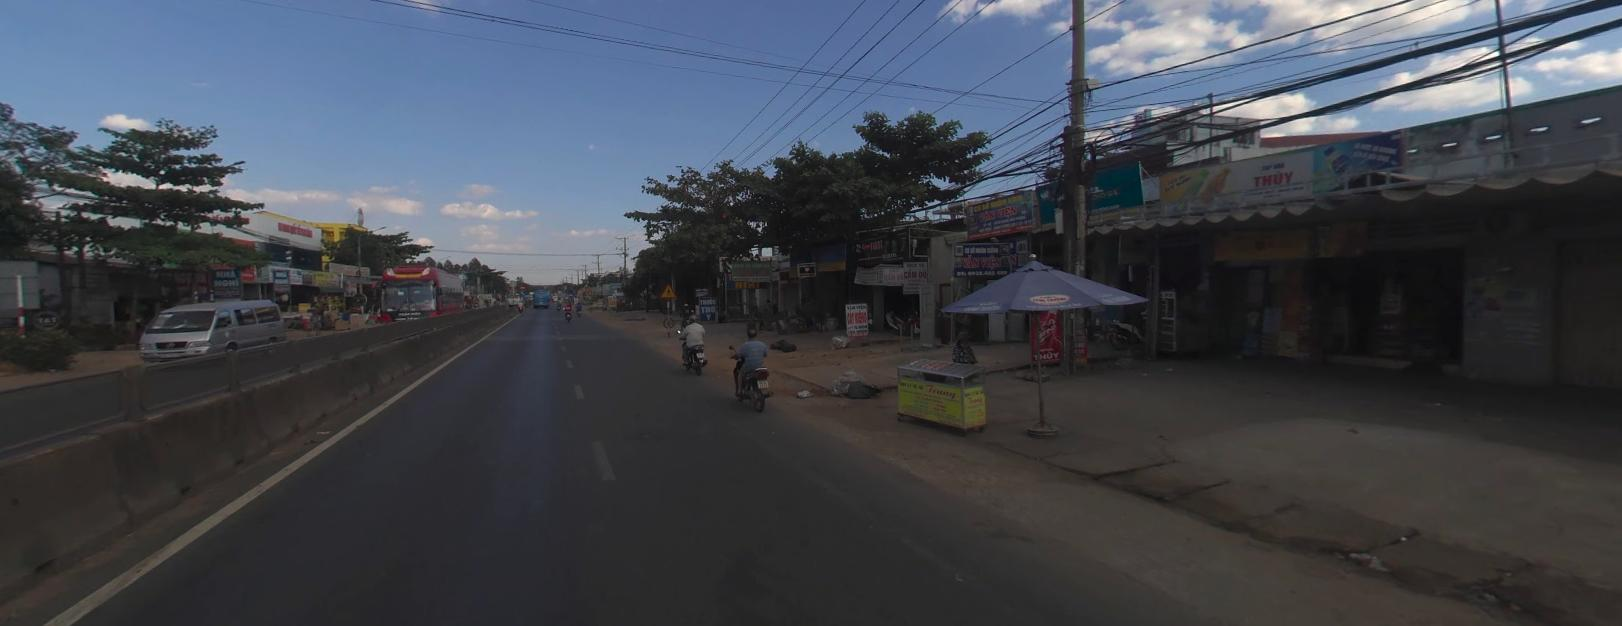Cam nguoc chieu: (519, 284, 524, 288)
Hieu lenh: (519, 288, 525, 293)
Nguy hiem: (660, 284, 677, 297)
